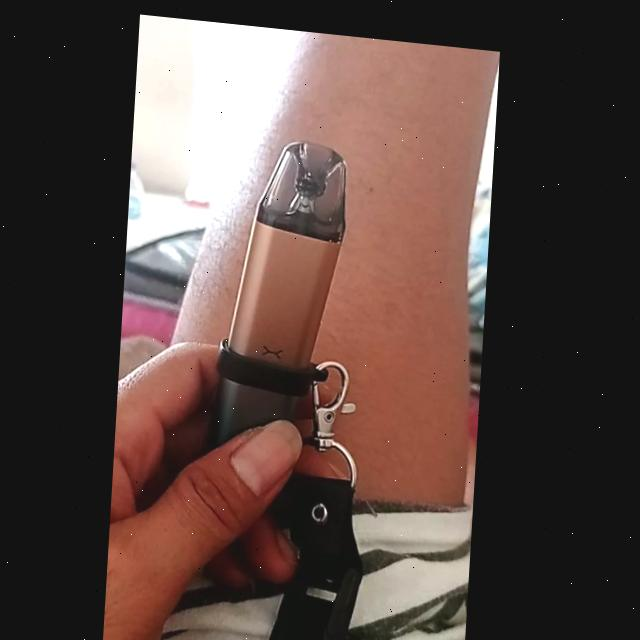vape: (214, 128, 351, 456)
